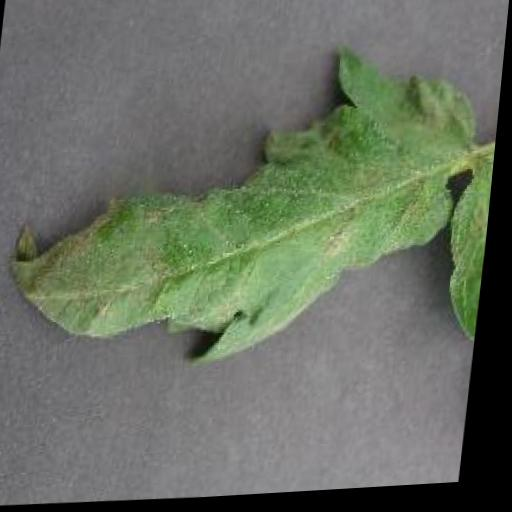Late Blight: (5, 32, 508, 376)
